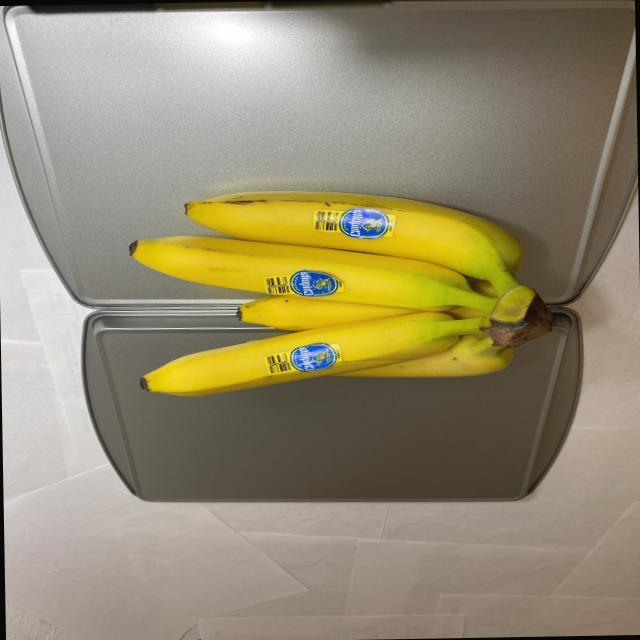banana: (121, 183, 554, 407)
